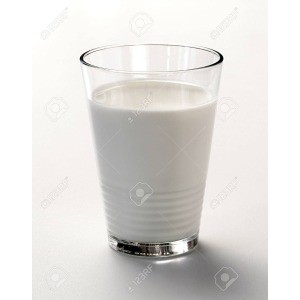milk_brain food: (99, 108, 202, 239)
